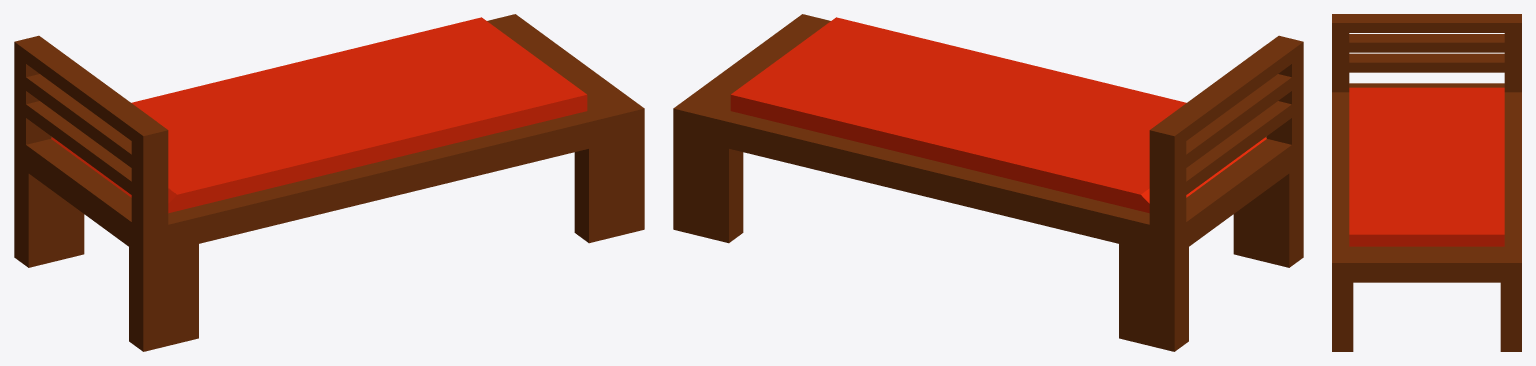
The model's file is bed.glb.
3 renders of one model, left to right at view 1: azimuth 30°, elevation 25°; view 2: azimuth 150°, elevation 25°; view 3: azimuth 270°, elevation 25°, orthographic. The views are drawn at different scales.
Visible parts, largest first — view 1: Cube, Cube.001; view 2: Cube, Cube.001; view 3: Cube, Cube.001.
Boxes of the visible parts, x1,y1,x2,y2 form: Cube: [14, 14, 644, 351]; Cube.001: [51, 17, 587, 213]; Cube: [673, 14, 1303, 351]; Cube.001: [730, 17, 1266, 213]; Cube: [1332, 14, 1521, 351]; Cube.001: [1349, 87, 1504, 246].
Size of the model in its own units: 11.66 by 4.79 by 5.2.
